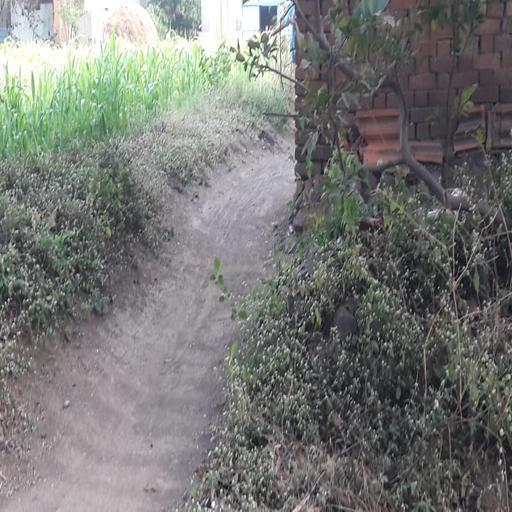vehicle_track: (0, 149, 293, 512)
